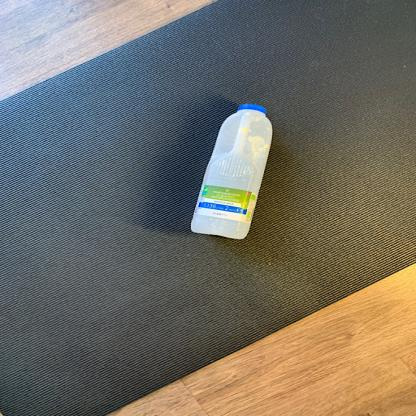trash: (191, 104, 274, 241)
